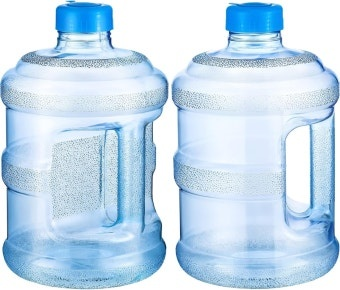plastic: (172, 3, 340, 288)
